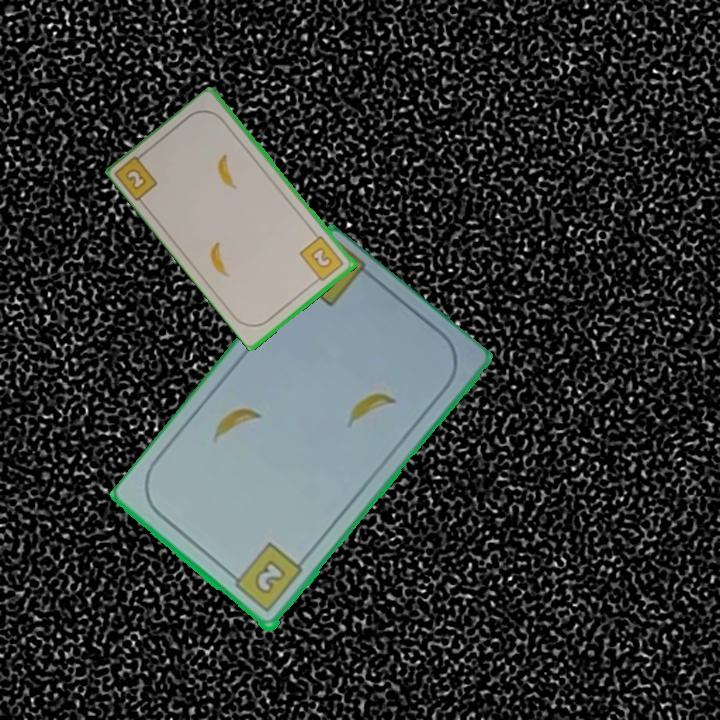2b: (225, 540, 306, 616), (296, 232, 347, 286), (113, 147, 161, 204)
